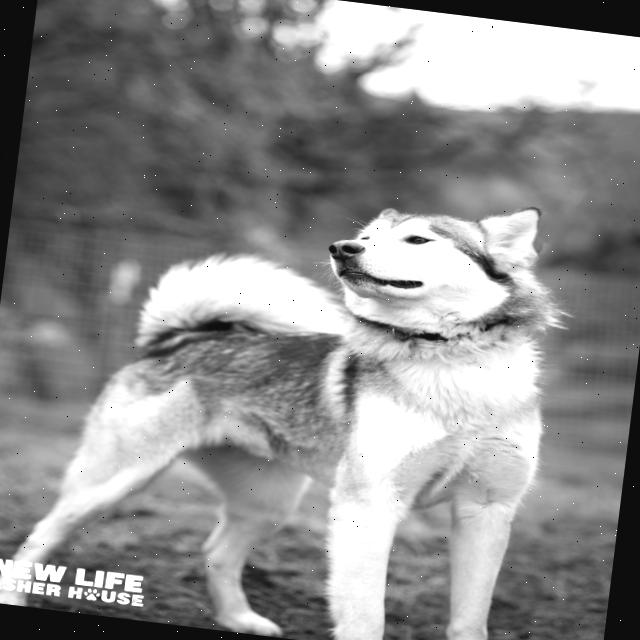siberian_husky_dog: (299, 176, 582, 392)
